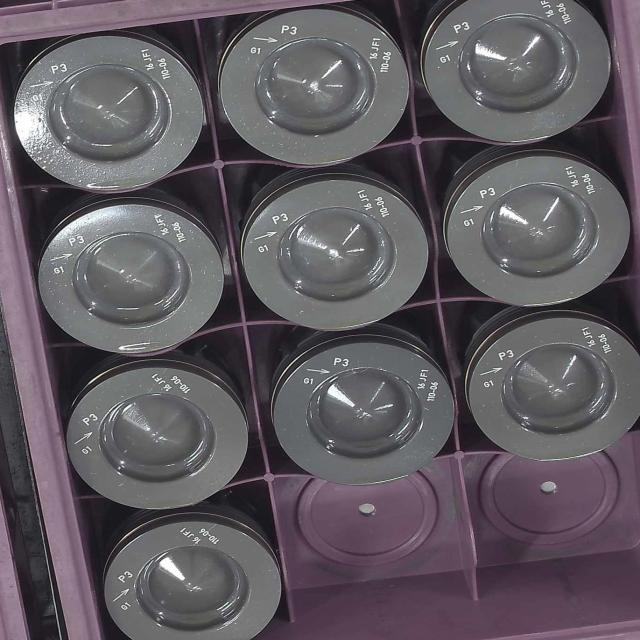P3: (212, 17, 416, 170), (33, 204, 234, 356), (260, 337, 459, 488), (20, 37, 210, 194), (240, 186, 430, 336), (442, 161, 626, 310), (427, 9, 622, 149), (465, 316, 640, 464), (68, 369, 248, 510), (90, 517, 284, 640)
